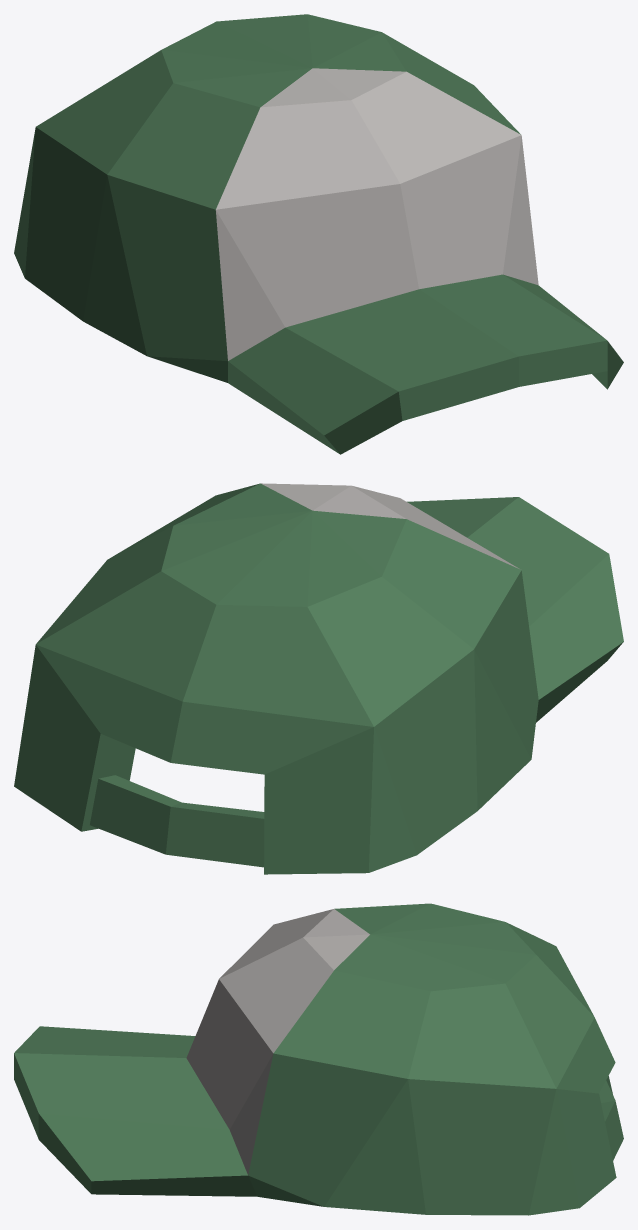
Rendered from SM_Chr_Attach_Cap_01.fbx.
The picture shows the model from 3 angles, top to bottom: view 1: azimuth 30°, elevation 25°; view 2: azimuth 150°, elevation 25°; view 3: azimuth 270°, elevation 25°; orthographic projection. The views are drawn at different scales.
Visible parts, largest first — view 1: SM_Chr_Attach_Cap_01; view 2: SM_Chr_Attach_Cap_01; view 3: SM_Chr_Attach_Cap_01.
Part boxes in pixels (x1,y1,x2,y2): SM_Chr_Attach_Cap_01: (14,14,623,454); SM_Chr_Attach_Cap_01: (14,483,623,874); SM_Chr_Attach_Cap_01: (14,903,623,1215).
Size of the model in its own units: 27.46 by 16.57 by 42.58.
